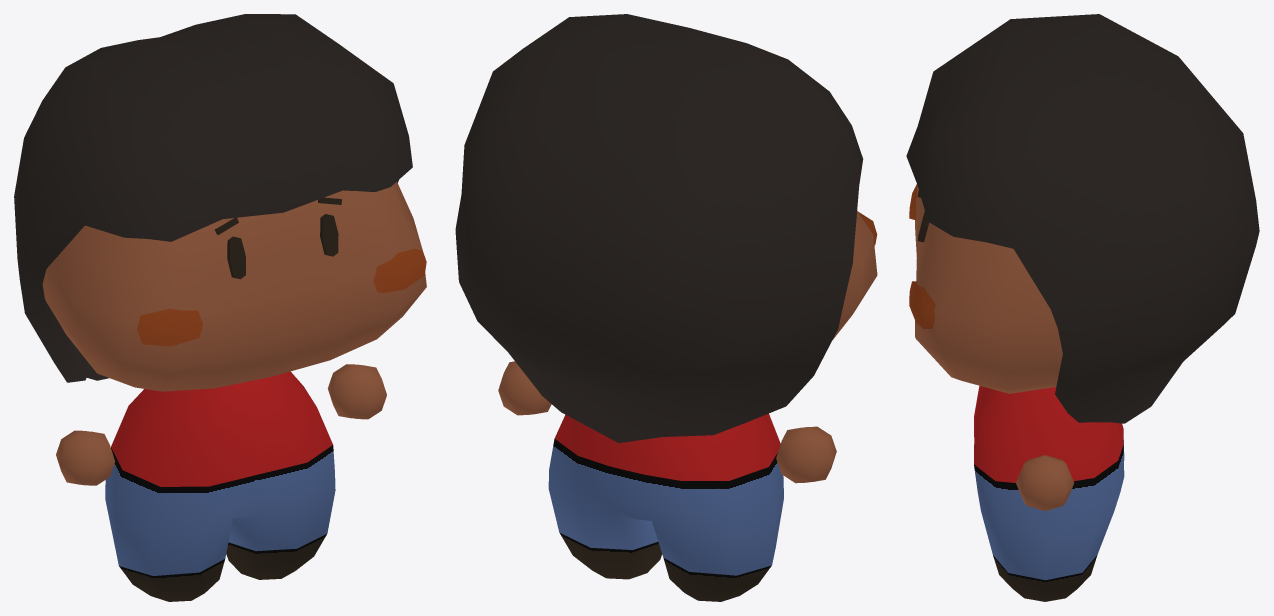
The model's file is tmg_waldo_2023-10-12 2058 (prelim export).glb.
3 renders of one model, left to right at view 1: azimuth 30°, elevation 25°; view 2: azimuth 150°, elevation 25°; view 3: azimuth 270°, elevation 25°, orthographic. The views are drawn at different scales.
Parts seen in each view (by area): view 1: base_body, accessory_hair, base_cheeks, base_eyes; view 2: accessory_hair, base_body; view 3: accessory_hair, base_body, base_cheeks.
Boxes of the visible parts, bbox=[...] form: base_body: bbox=[42, 182, 426, 601]; accessory_hair: bbox=[14, 14, 412, 382]; base_cheeks: bbox=[137, 249, 426, 346]; base_eyes: bbox=[214, 197, 342, 279]; accessory_hair: bbox=[455, 14, 863, 442]; base_body: bbox=[498, 211, 877, 601]; accessory_hair: bbox=[906, 14, 1259, 423]; base_body: bbox=[915, 186, 1124, 601]; base_cheeks: bbox=[909, 184, 935, 328].
Bounding box in the file's own units: 0.8132 × 1.11 × 0.6786.
2 materials, 2 textured.
